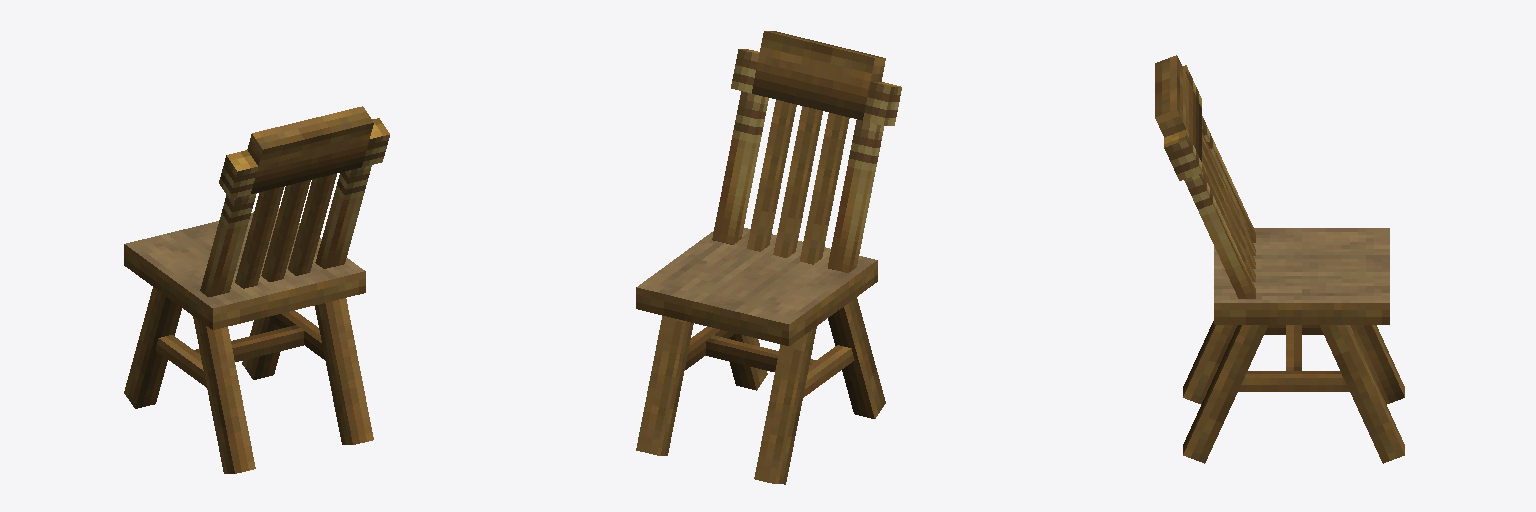
The picture shows the model from 3 angles: view 1: azimuth 30°, elevation 25°; view 2: azimuth 150°, elevation 25°; view 3: azimuth 270°, elevation 25°; orthographic projection.
Visible parts, largest first — view 1: cube; view 2: cube; view 3: cube.
Boxes of the visible parts, x1=… form: cube: x1=124, y1=106, x2=389, y2=473; cube: x1=636, y1=31, x2=901, y2=484; cube: x1=1155, y1=55, x2=1404, y2=463.
Size of the model in its own units: 0.6875 by 1.49 by 0.9743.
2 materials, 2 textured.